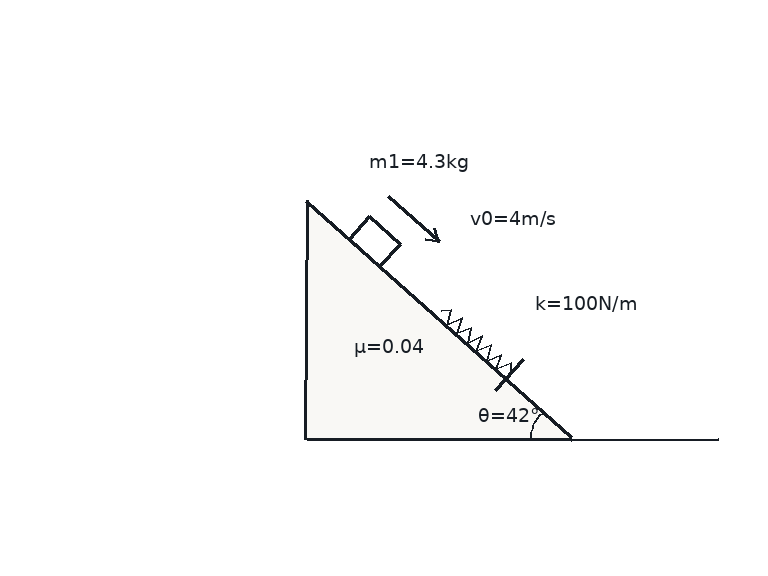block: (347, 214, 402, 269)
ramp: (304, 199, 573, 441)
spring: (440, 308, 513, 375)
